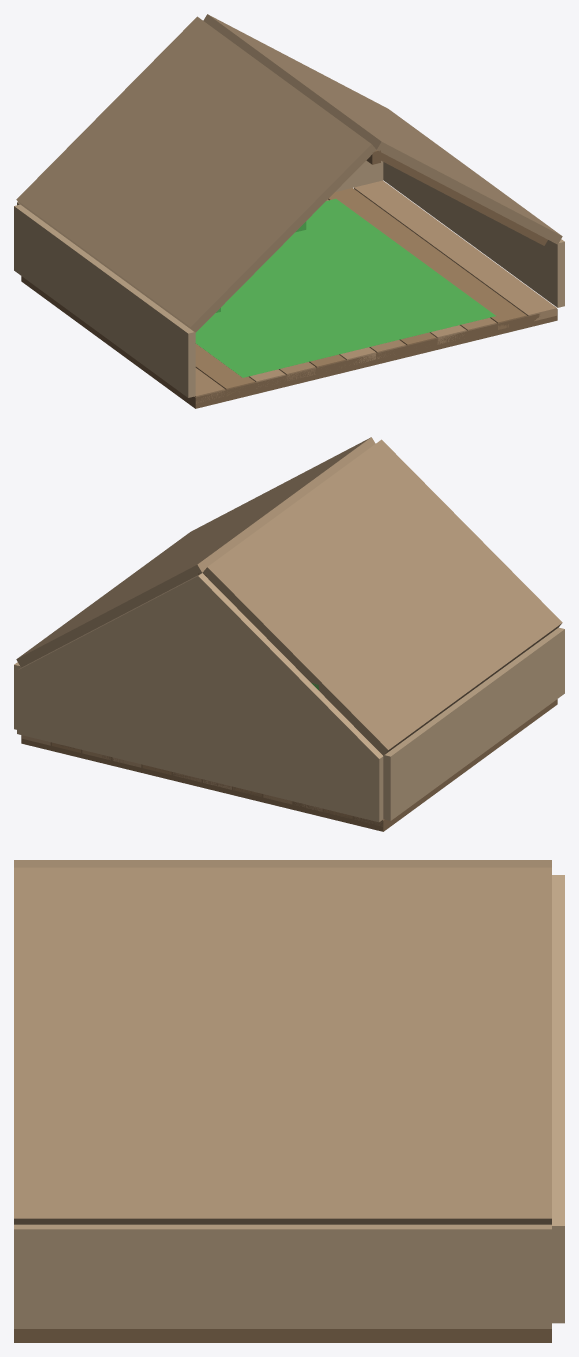
Rendered from attic.glb.
3 renders of one model, top to bottom at view 1: azimuth 30°, elevation 25°; view 2: azimuth 150°, elevation 25°; view 3: azimuth 270°, elevation 25°, orthographic. The views are drawn at different scales.
Visible parts, largest first — view 1: RoofLeft, nav_floor, KneeWallLeft, RoofRight, KneeWallRight, plank_11, floor_base, plank_10, rafter_0_R, plank_1, BackWall, plank_0; view 2: RoofLeft, BackWall, KneeWallLeft, RoofRight, floor_base; view 3: RoofRight, KneeWallRight, floor_base, BackWall, RoofLeft.
Boxes of the visible parts, <box> form: RoofLeft: <box>16,16,376,332</box>; nav_floor: <box>195,198,495,377</box>; KneeWallLeft: <box>14,204,195,397</box>; RoofRight: <box>203,14,562,244</box>; KneeWallRight: <box>383,162,564,307</box>; plank_11: <box>354,180,556,321</box>; floor_base: <box>21,276,557,408</box>; plank_10: <box>328,188,526,329</box>; rafter_0_R: <box>381,152,547,245</box>; plank_1: <box>195,344,255,395</box>; BackWall: <box>17,160,383,205</box>; plank_0: <box>195,368,224,403</box>; RoofLeft: <box>202,439,562,755</box>; BackWall: <box>17,573,383,822</box>; KneeWallLeft: <box>383,627,564,820</box>; RoofRight: <box>16,437,375,667</box>; floor_base: <box>21,699,557,831</box>; RoofRight: <box>14,867,551,1224</box>; KneeWallRight: <box>14,1224,551,1328</box>; floor_base: <box>14,1329,551,1342</box>; BackWall: <box>552,875,564,1323</box>; RoofLeft: <box>14,860,551,867</box>.
Bounding box in the file's own units: 6.24 × 3.51 × 5.12.
